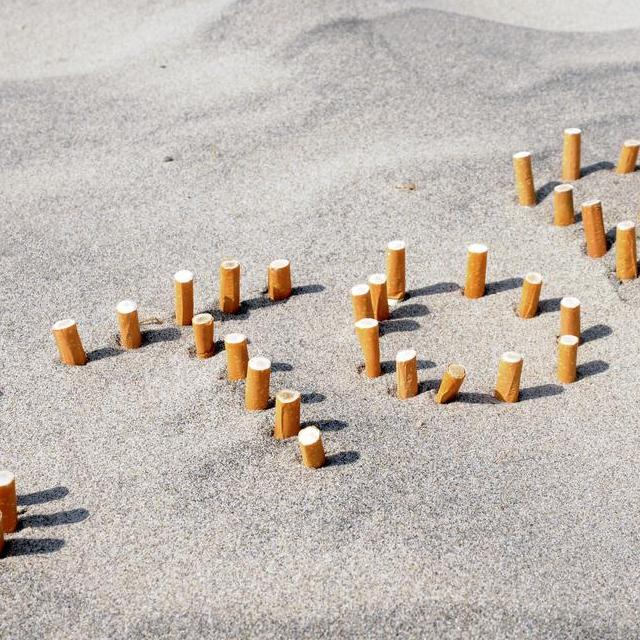Cigarette Butt: (51, 317, 89, 367), (612, 217, 639, 285), (353, 317, 382, 378), (579, 197, 607, 260), (243, 355, 273, 411), (382, 239, 407, 306), (492, 350, 523, 404), (460, 241, 489, 298), (510, 149, 538, 208), (272, 387, 303, 440), (431, 361, 467, 404), (115, 297, 143, 350), (171, 267, 195, 327), (515, 271, 544, 320), (216, 258, 241, 314), (296, 423, 326, 469), (393, 348, 419, 400), (559, 125, 583, 180), (223, 331, 249, 381), (366, 270, 391, 321), (555, 333, 580, 384), (190, 311, 216, 360), (265, 257, 292, 302), (551, 180, 576, 227), (0, 468, 18, 533), (348, 281, 374, 323), (559, 295, 581, 344), (613, 137, 640, 174)
